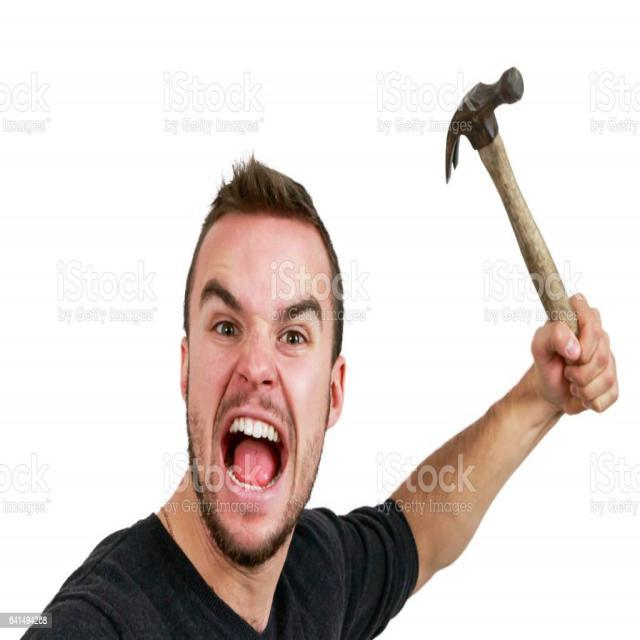hammer: (440, 61, 586, 360)
